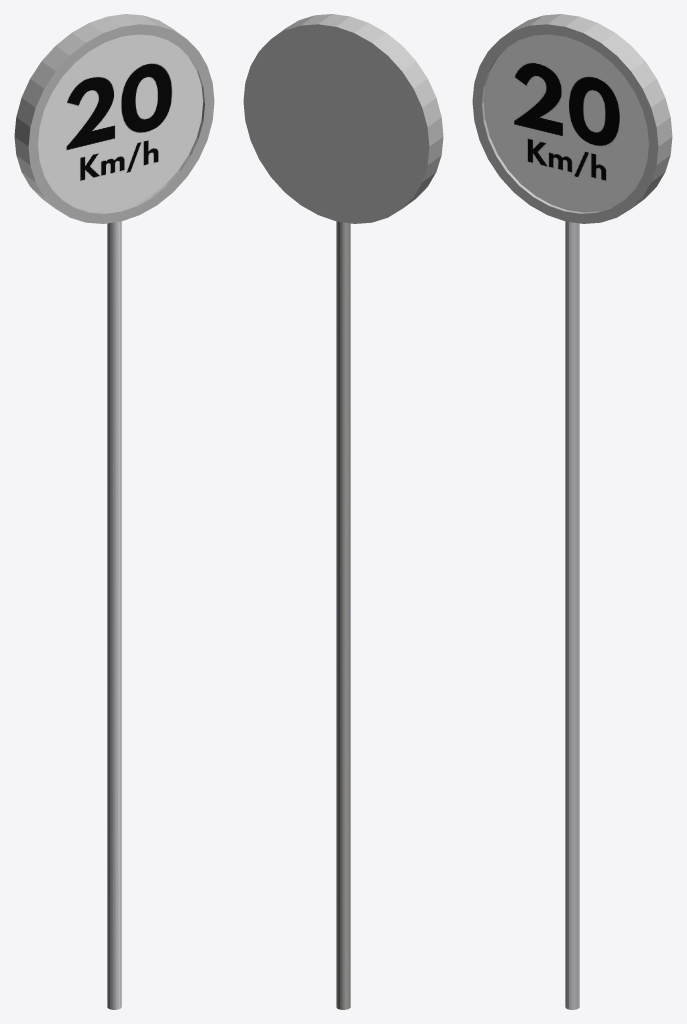
The model's file is senal.fbx.
3 views of the same model, side by side, from view 1: azimuth 30°, elevation 25°; view 2: azimuth 150°, elevation 25°; view 3: azimuth 330°, elevation 25° (orthographic).
Parts seen in each view (by area): view 1: Cylinder.001; view 2: Cylinder.001; view 3: Cylinder.001.
Part boxes in pixels (bbox=[...]): Cylinder.001: bbox=[14, 14, 214, 1009]; Cylinder.001: bbox=[243, 14, 443, 1009]; Cylinder.001: bbox=[472, 14, 672, 1009].
Size of the model in its own units: 48.15 by 244 by 6.33.
